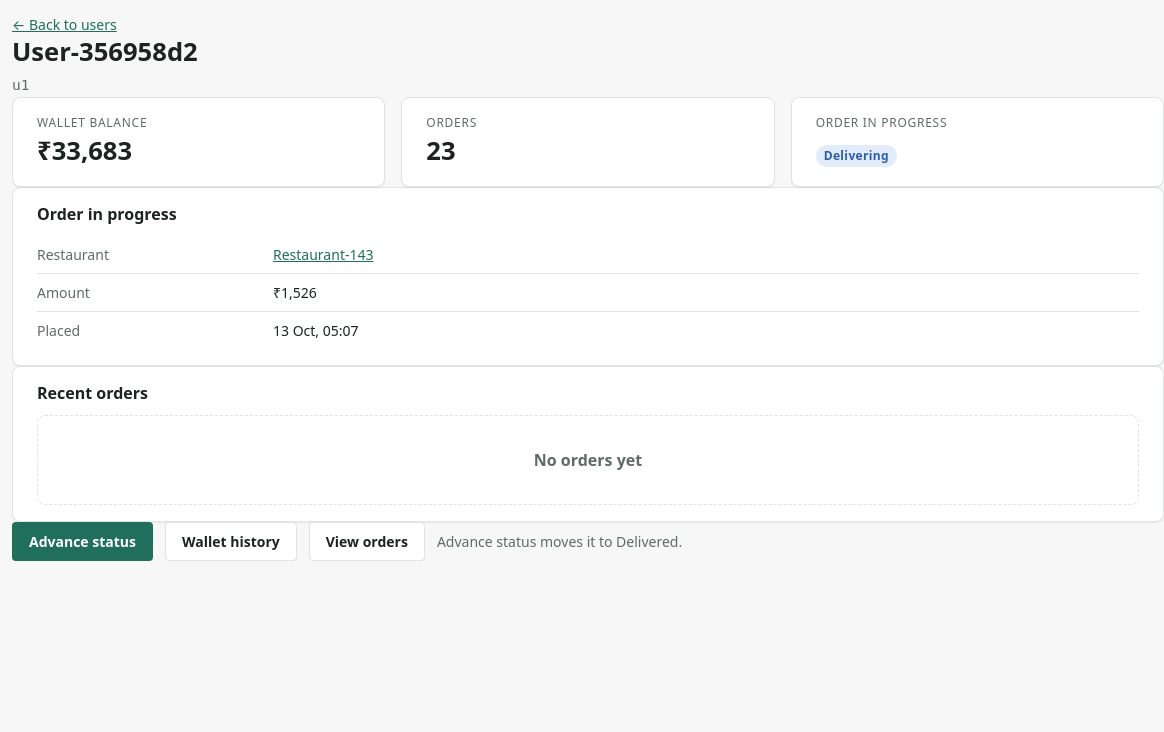
Test: Customer page › says when delivery frees the customer to order again
Step 1. Click the button "Advance status" → (82,542), box [12,522,153,561]
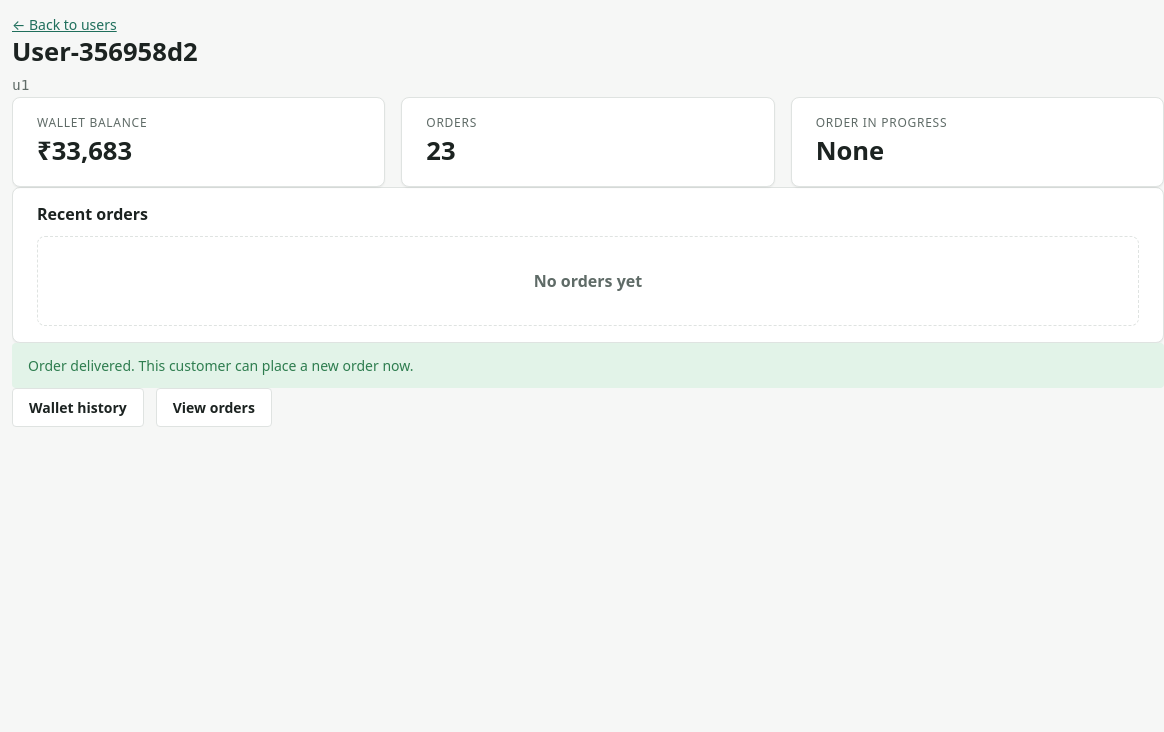
Expected: the message reads "Order delivered. This customer can place a new order now.", [28,356,414,375]
Expected: the text "None" is shown, [816,133,884,168]
Expected: the button "Advance status" is gone
